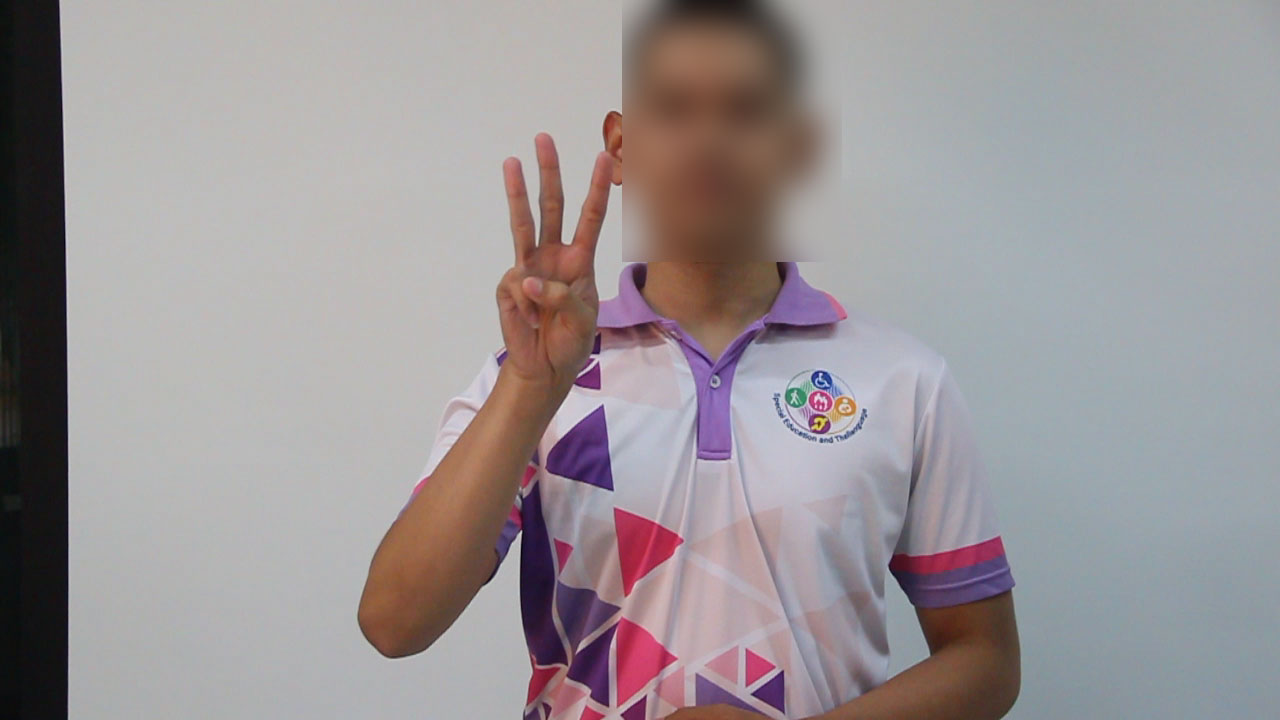wor: (485, 127, 623, 387)
